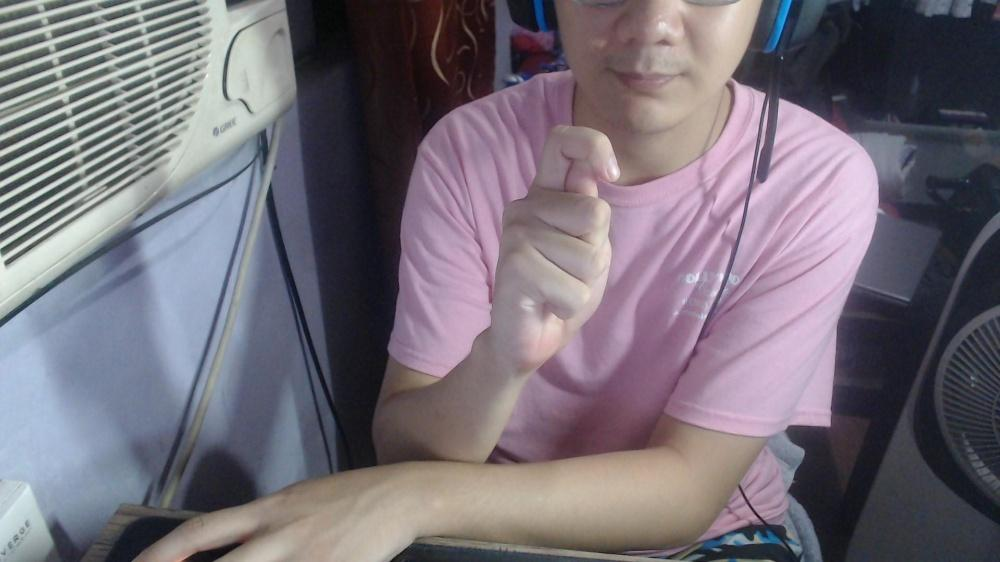t: (489, 119, 620, 375)
